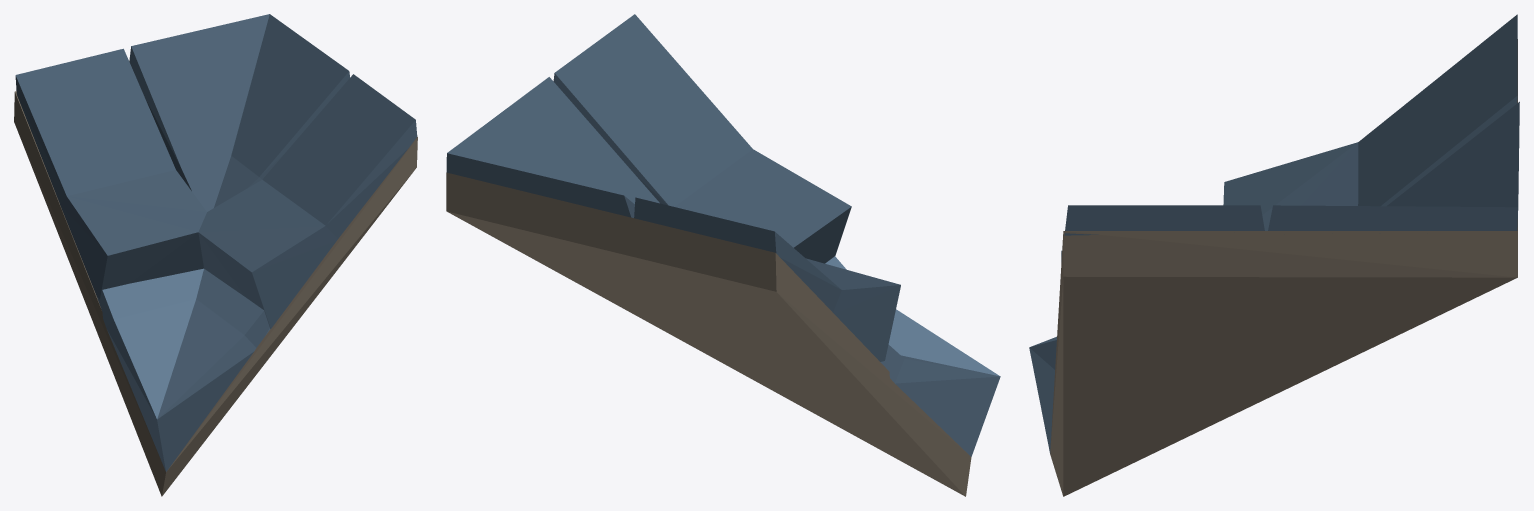
Rendered from _ROOF_small_inner_corner_1.fbx.
3 views of the same model, side by side, from view 1: azimuth 30°, elevation 25°; view 2: azimuth 150°, elevation 25°; view 3: azimuth 270°, elevation 25° (orthographic). The views are drawn at different scales.
Visible parts, largest first — view 1: ROOF_small_inner_corner_1; view 2: ROOF_small_inner_corner_1; view 3: ROOF_small_inner_corner_1.
Part boxes in pixels (left/top/right/bottom): ROOF_small_inner_corner_1: left=14, top=14, right=417, bottom=496; ROOF_small_inner_corner_1: left=446, top=14, right=1000, bottom=496; ROOF_small_inner_corner_1: left=1029, top=14, right=1519, bottom=496.
Size of the model in its own units: 53.24 by 58.71 by 53.97.
